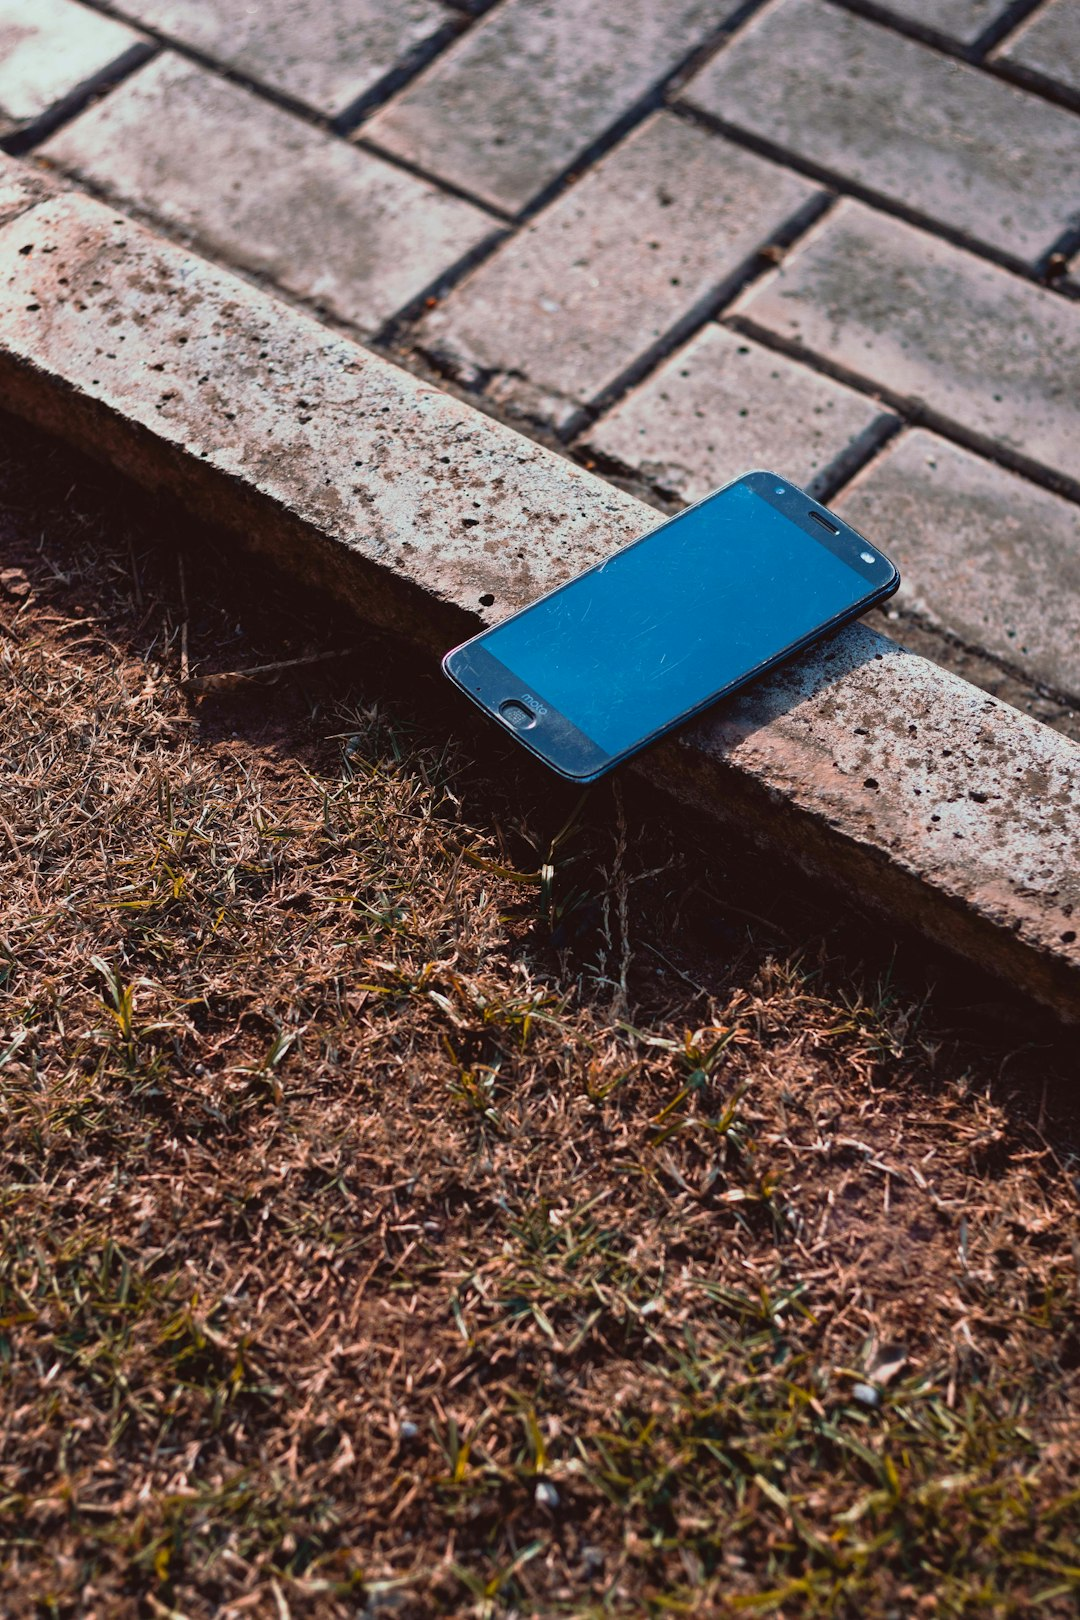phone: (439, 475, 900, 790)
